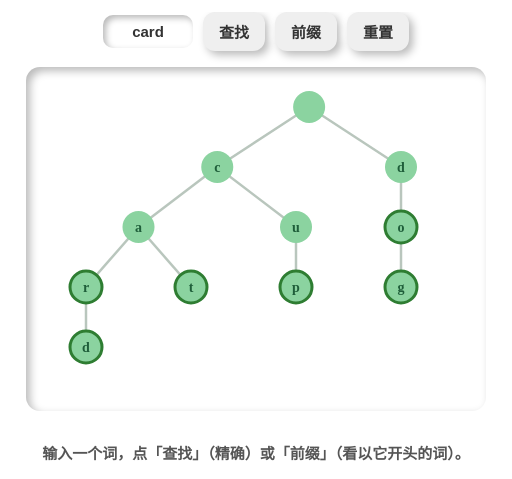
it: TrieViz 字典树互动 › TC-VIZ-TRIEVIZ-06 前缀 ca：status 含「car」（补全列表）
The width and height of the screenshot is (512, 479).
Step 1. Replace the text in the field named "单词" with "ca" → (148, 32), box [103,15,193,48]
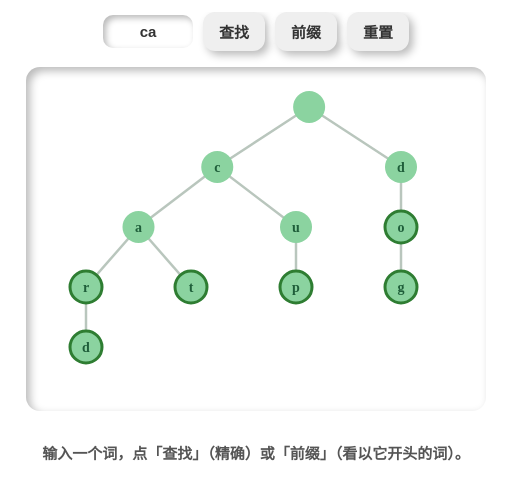
Step 2. Click the button "前缀" → (306, 32), box [275,12,337,51]
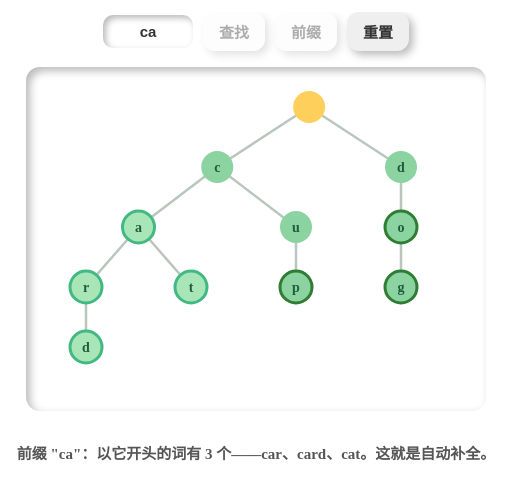
Expected: the message with class "status" shows "car", [17,446,495,462]
